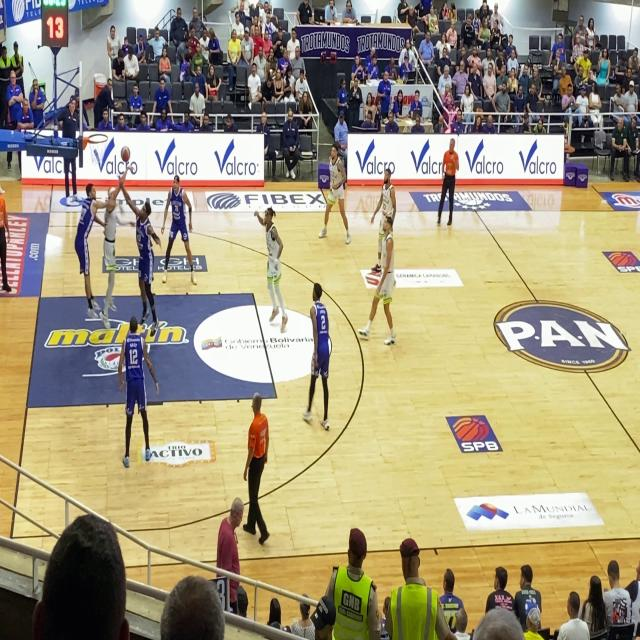Ball: (117, 140, 132, 164)
referee: (243, 397, 274, 543), (436, 141, 461, 232), (2, 183, 12, 295)
team1: (259, 202, 287, 328), (377, 212, 400, 353), (104, 186, 118, 322), (328, 140, 346, 234), (375, 168, 389, 240)
team2: (121, 314, 151, 468), (304, 279, 330, 433), (76, 178, 101, 319), (164, 169, 196, 278), (138, 204, 156, 328)
ubasket: (86, 133, 108, 163)
